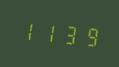nine: (78, 21, 97, 50)
one: (18, 16, 37, 45), (38, 18, 57, 46)
three: (58, 19, 77, 48)
